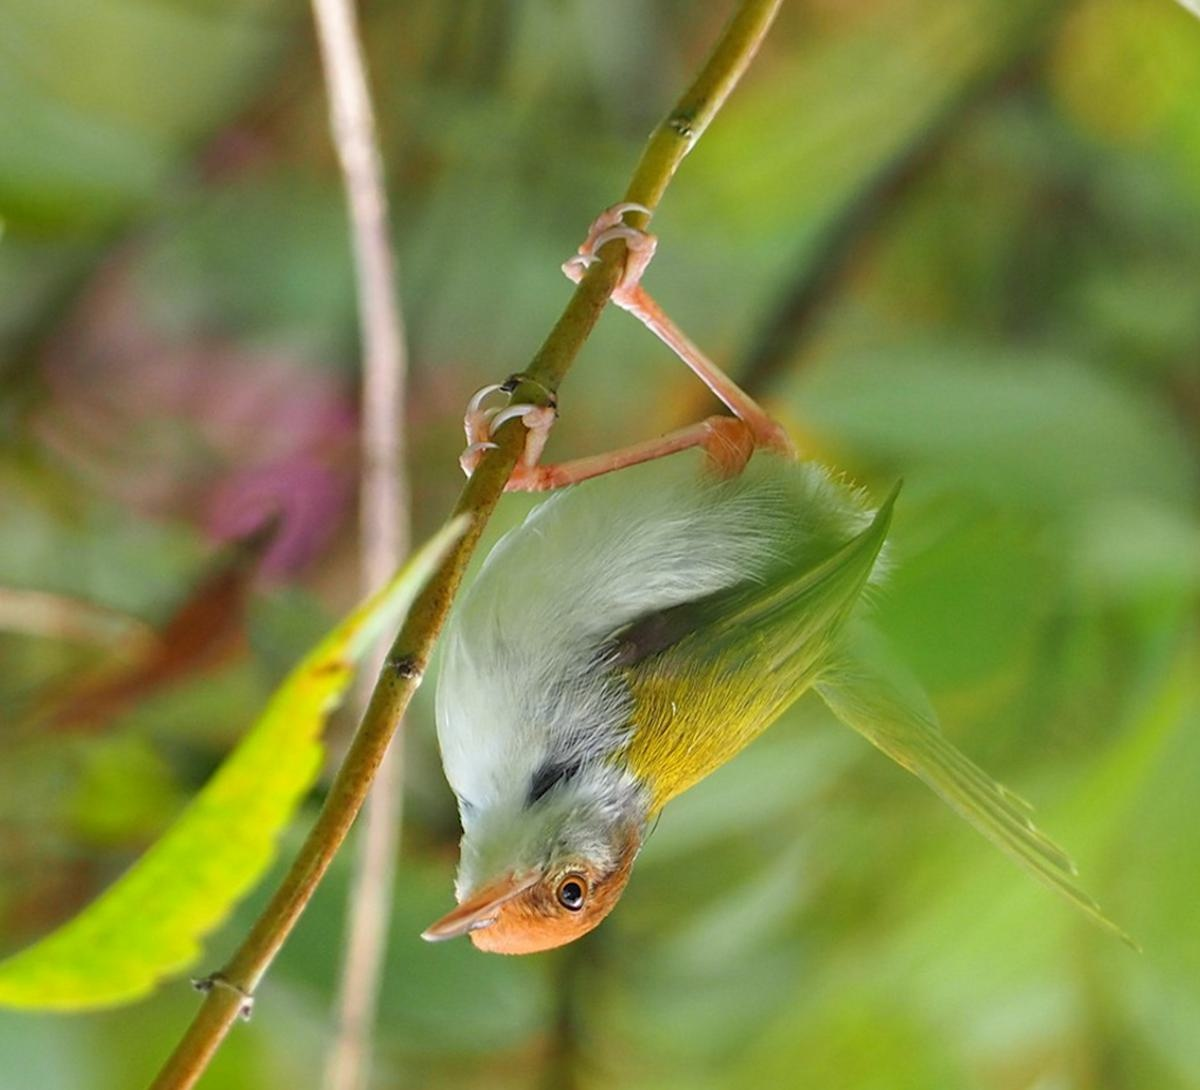tailorbird: (379, 255, 1122, 1004)
